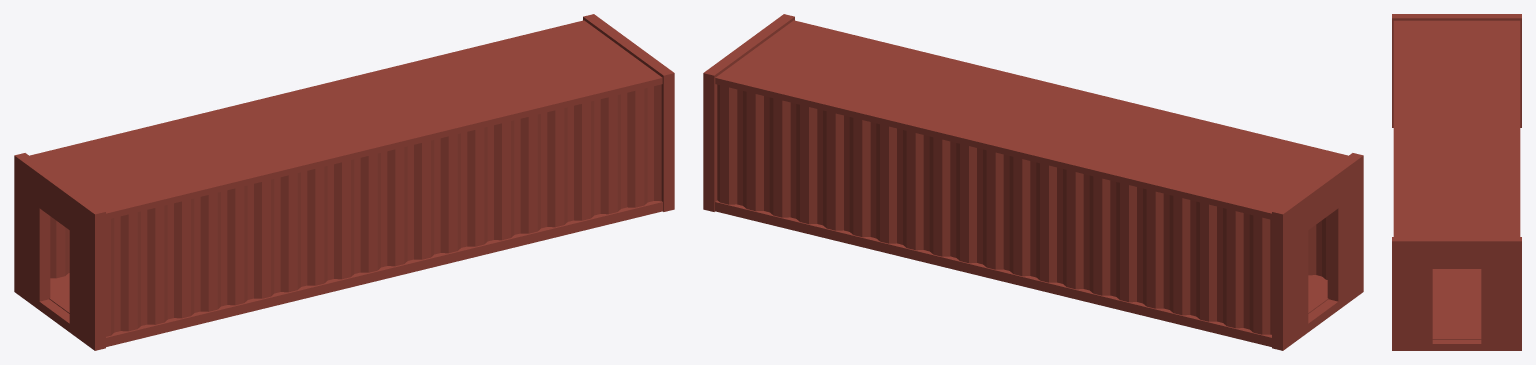
File: control_crate.glb
3 views of the same model, side by side, from view 1: azimuth 30°, elevation 25°; view 2: azimuth 150°, elevation 25°; view 3: azimuth 270°, elevation 25° (orthographic). The views are drawn at different scales.
Parts seen in each view (by area): view 1: Plane, Cube, Cube.001, Cube.003, Cube.002, Plane.001; view 2: Plane.001, Cube, Cube.001, Cube.003, Cube.002, Plane; view 3: Cube, Cube.002, Cube.003, Cube.001.
Boxes of the visible parts, bbox=[...] form: Plane: bbox=[106, 84, 661, 336]; Cube: bbox=[29, 20, 662, 219]; Cube.001: bbox=[14, 153, 105, 350]; Cube.003: bbox=[49, 201, 662, 346]; Cube.002: bbox=[583, 14, 674, 211]; Plane.001: bbox=[50, 216, 69, 278]; Plane.001: bbox=[717, 84, 1271, 334]; Cube: bbox=[715, 20, 1348, 219]; Cube.001: bbox=[1272, 153, 1363, 350]; Cube.003: bbox=[715, 200, 1328, 346]; Cube.002: bbox=[703, 14, 794, 211]; Plane: bbox=[1308, 216, 1327, 279]; Cube: bbox=[1393, 20, 1520, 236]; Cube.002: bbox=[1392, 237, 1521, 350]; Cube.003: bbox=[1432, 269, 1481, 339]; Cube.001: bbox=[1392, 14, 1521, 127].
Size of the model in its own units: 11.57 by 2.6 by 2.79.
Materials: 1 (1 with a texture image).
